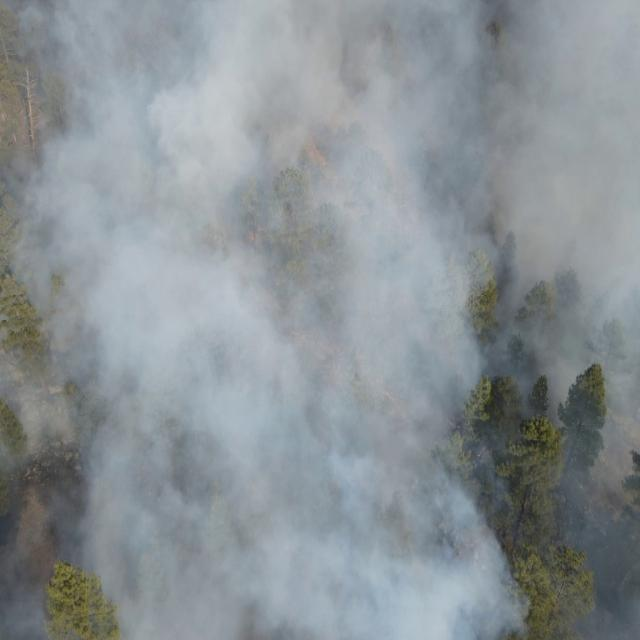fire: (247, 223, 266, 245), (283, 206, 296, 224)
smoke: (2, 0, 491, 640), (489, 0, 640, 421), (559, 424, 640, 640), (492, 532, 532, 640)
